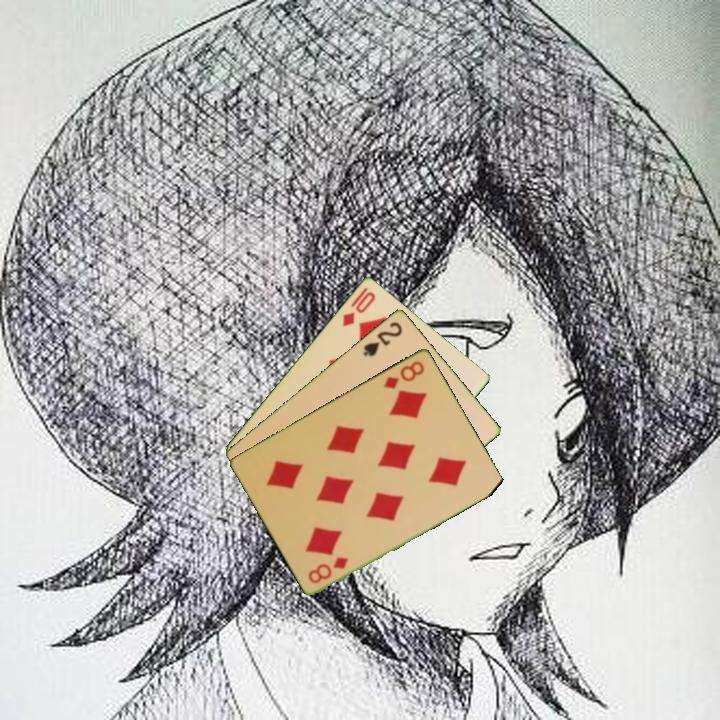10d: (339, 288, 378, 329)
2s: (359, 318, 405, 359)
8d: (380, 357, 427, 392), (304, 553, 351, 586)
